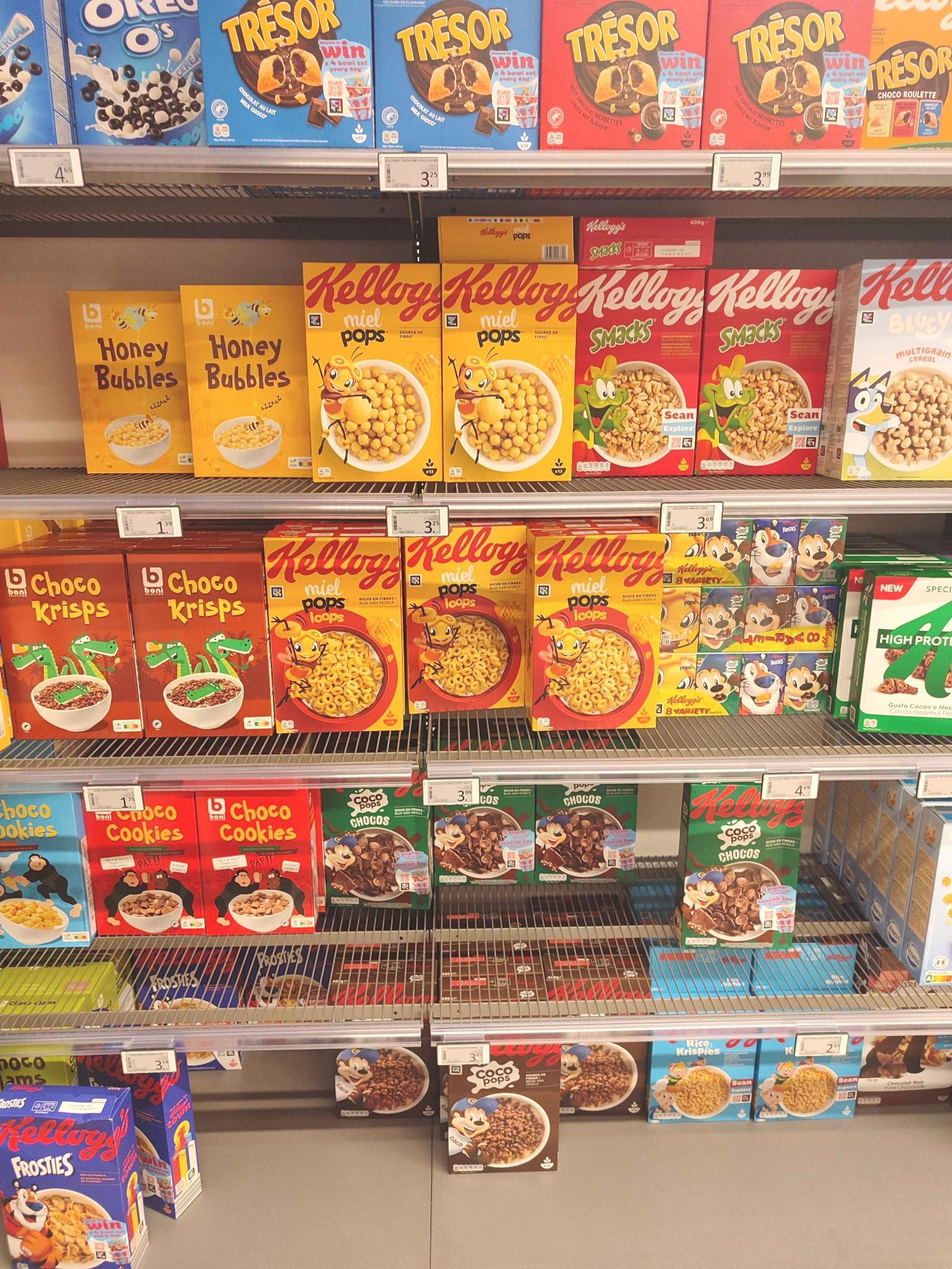nutri_C: (111, 718, 143, 732), (242, 717, 271, 730)
nutri_D: (62, 932, 90, 941), (180, 918, 205, 928), (291, 918, 316, 927)
shelf_bottom: (2, 781, 952, 1269)
shelf_middle: (0, 227, 950, 765)
shelf_top: (2, 0, 950, 201)
